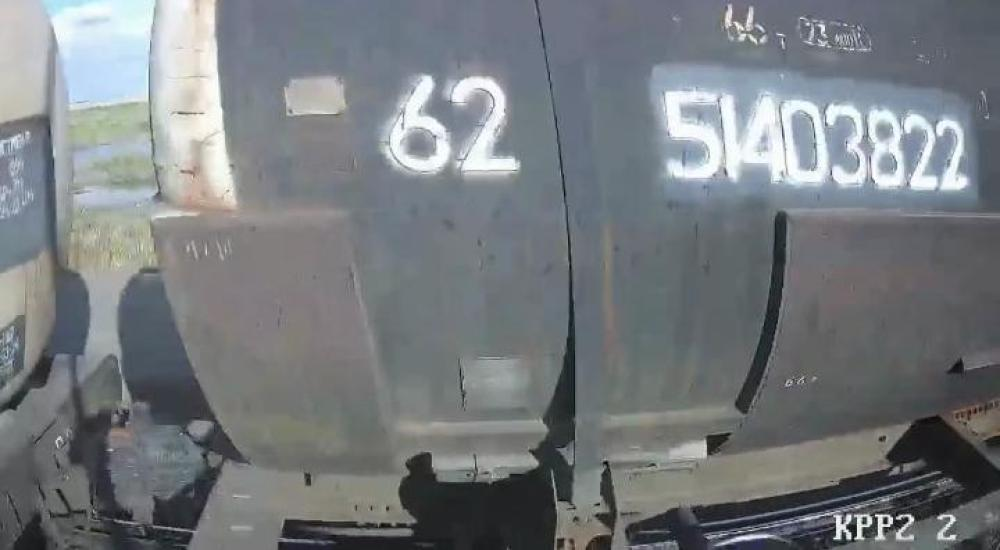Wagon-number: (653, 84, 977, 202)
